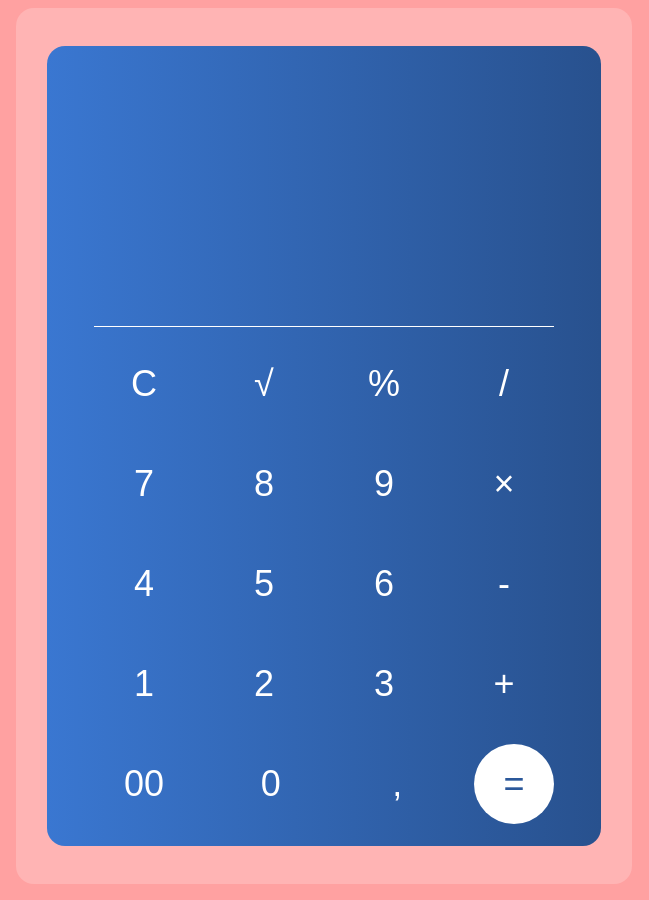
Test: Calculator Component › handles complex expressions correctly
Click the button "9" at (384, 484), box [334,444,434,524]
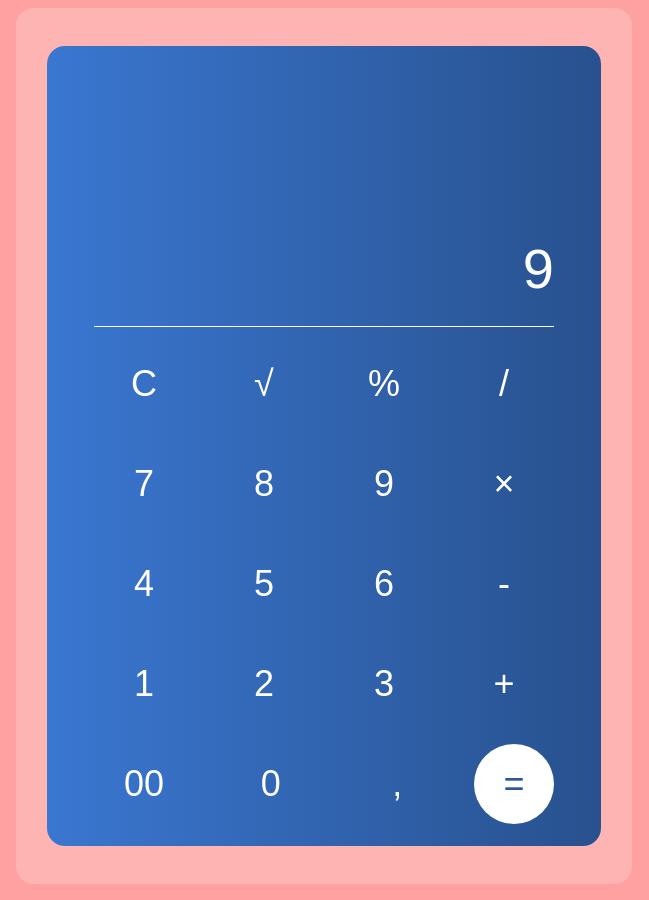
Click the button "×" at (504, 484), box [454,444,554,524]
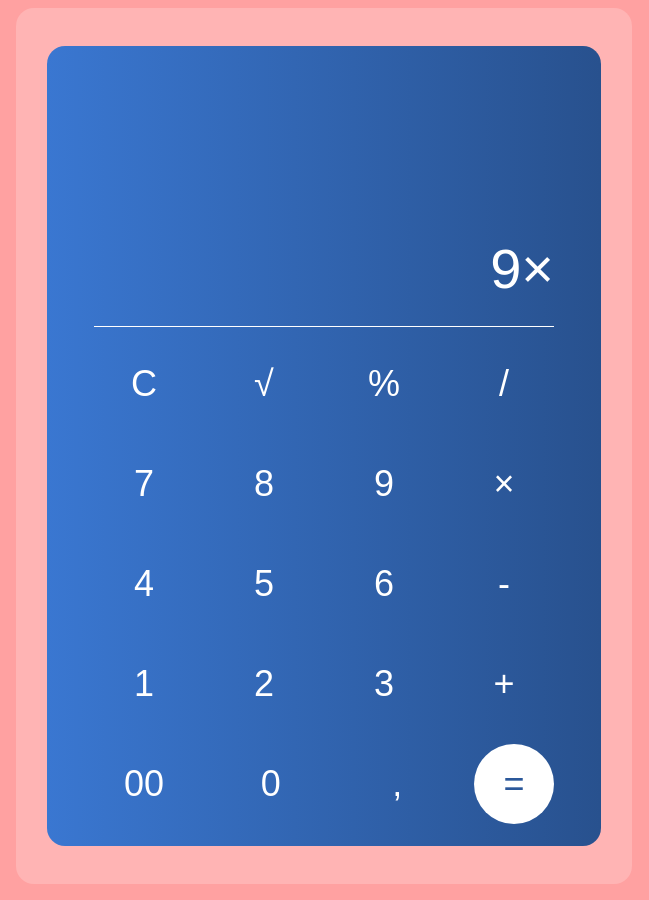
Click the button "√" at (264, 384), box [214,344,314,424]
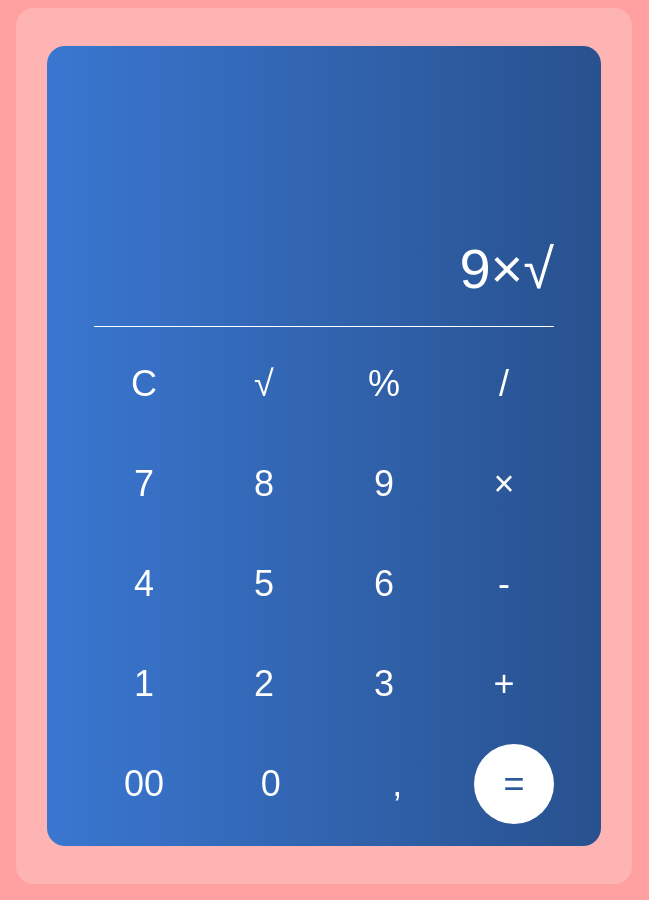
Click the button "9" at (384, 484), box [334,444,434,524]
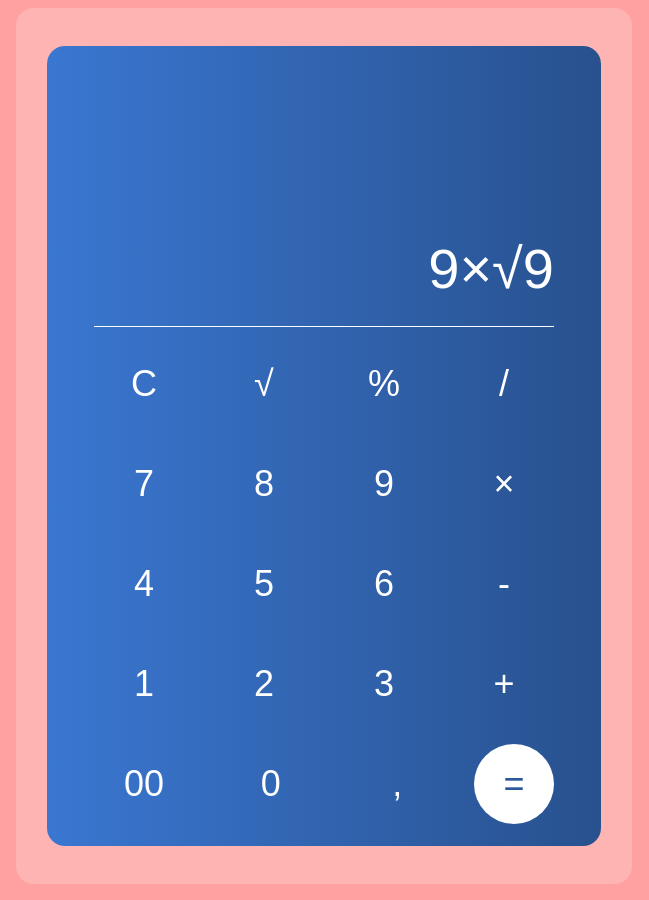
Click the button "=" at (514, 784), box [474,744,554,824]
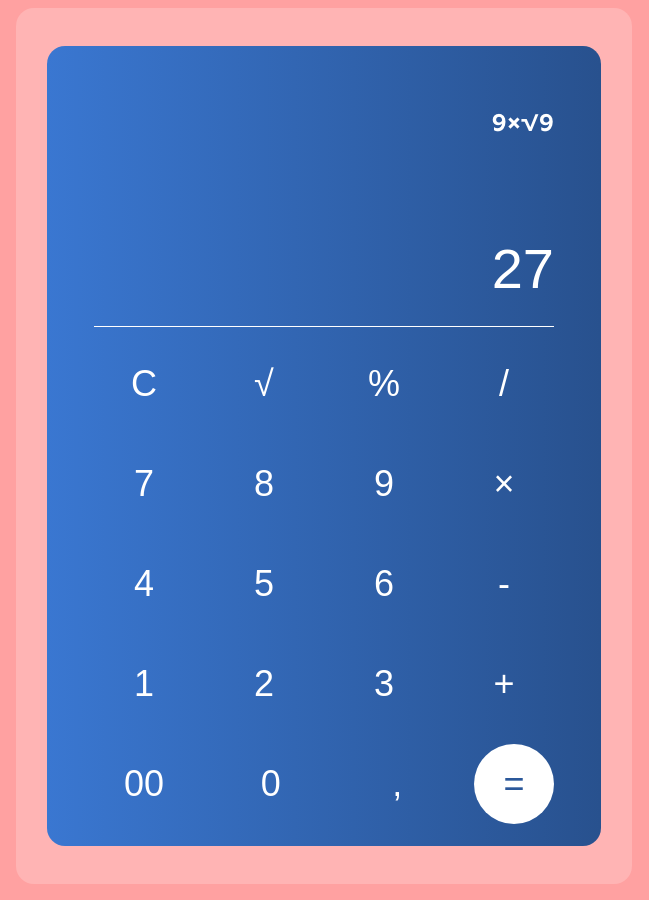
Expected: the field holds "27", [92,230,556,308]
